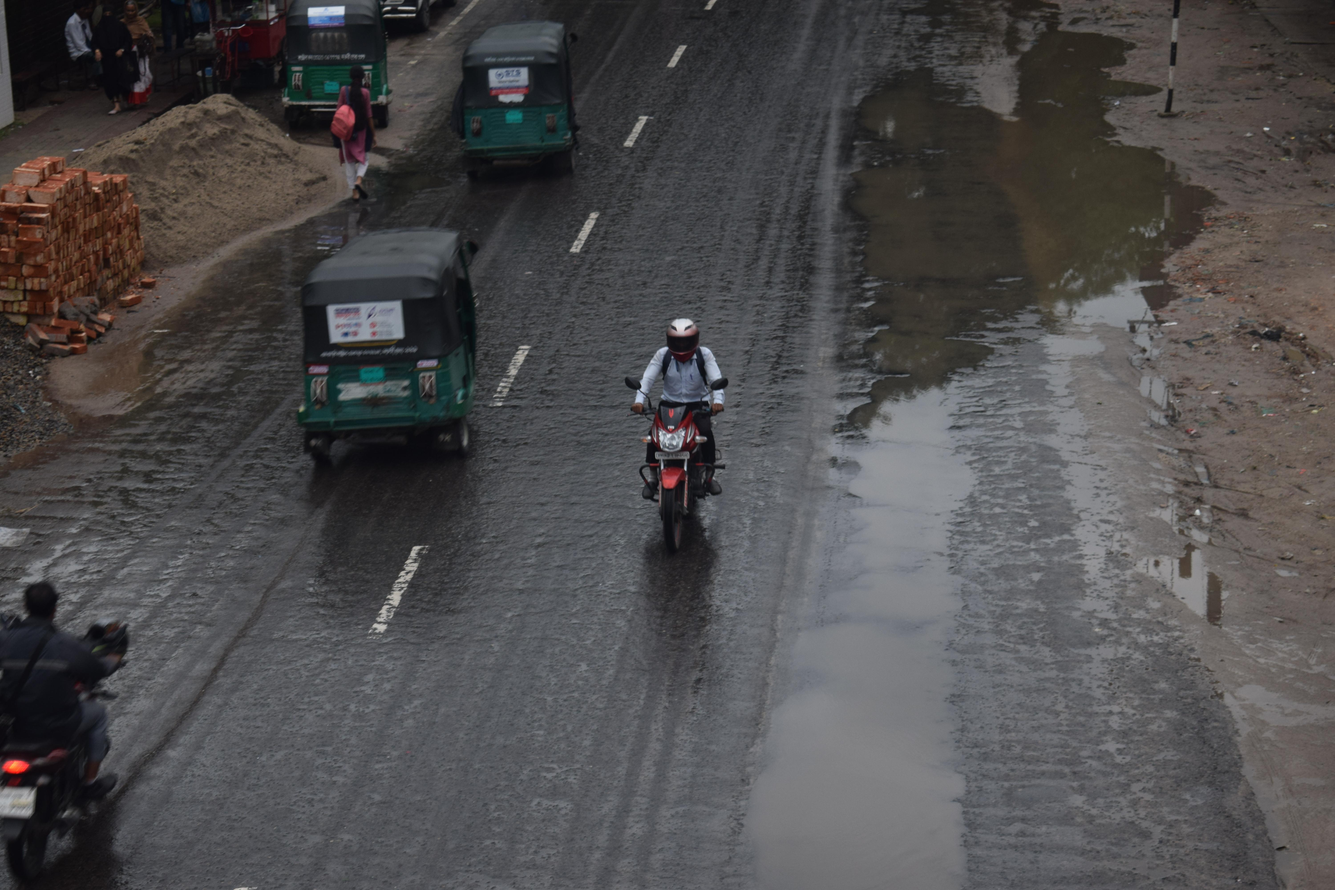Bike: (585, 275, 779, 598), (0, 552, 166, 879)
